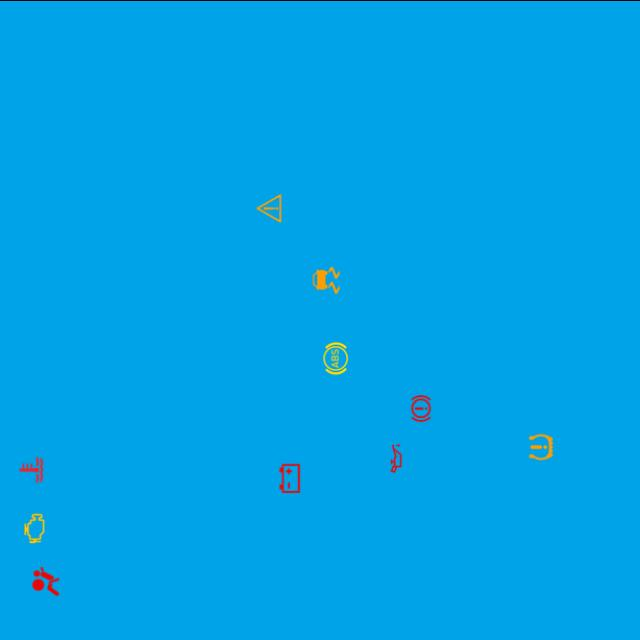Anti Lock Braking System: (317, 340, 353, 376)
Braking System Issue: (403, 390, 439, 426)
Charging System Issue: (272, 460, 308, 496)
Check Engine: (16, 510, 52, 545)
Electronic Stability Problem -ESP-: (308, 262, 344, 298)
Engine Overheating Warning Light: (13, 451, 50, 487)
Low Engine Oil Warning Light: (378, 440, 414, 476)
Low Tire Pressure Warning Light: (523, 428, 559, 464)
Master warning light: (251, 190, 287, 226)
SRS-Airbag: (28, 562, 64, 598)
